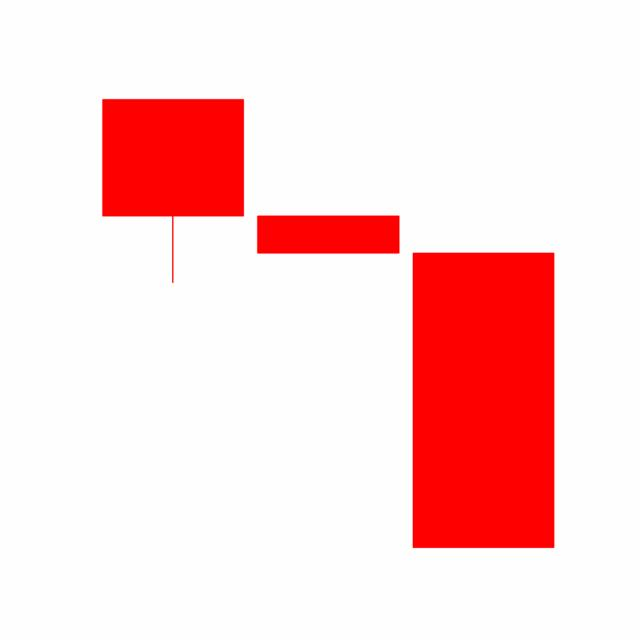Marubozu: (405, 249, 561, 550)
